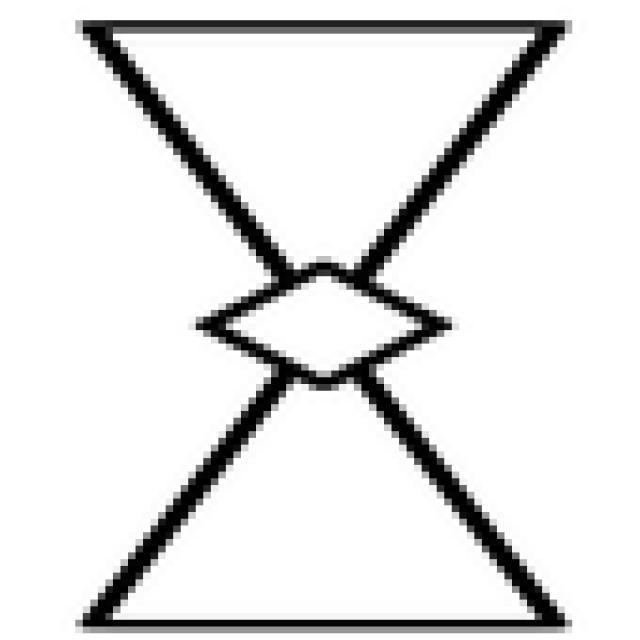Plug Valve: (85, 30, 558, 621)
